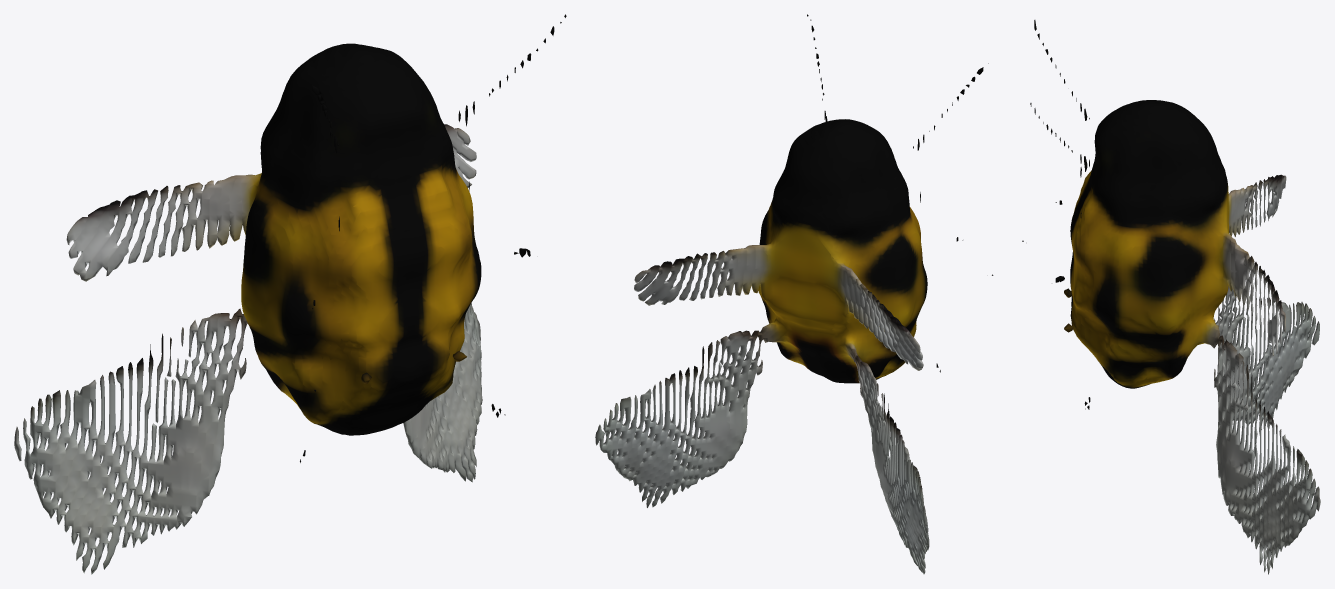
3 renders of one model, left to right at view 1: azimuth 30°, elevation 25°; view 2: azimuth 150°, elevation 25°; view 3: azimuth 270°, elevation 25°, orthographic. The views are drawn at different scales.
Visible parts, largest first — view 1: plyFile; view 2: plyFile; view 3: plyFile.
Part boxes in pixels (x1,y1,x2,y2): plyFile: (14, 14, 566, 574); plyFile: (595, 14, 993, 574); plyFile: (1022, 20, 1320, 574).
Size of the model in its own units: 150 by 184 by 111.
